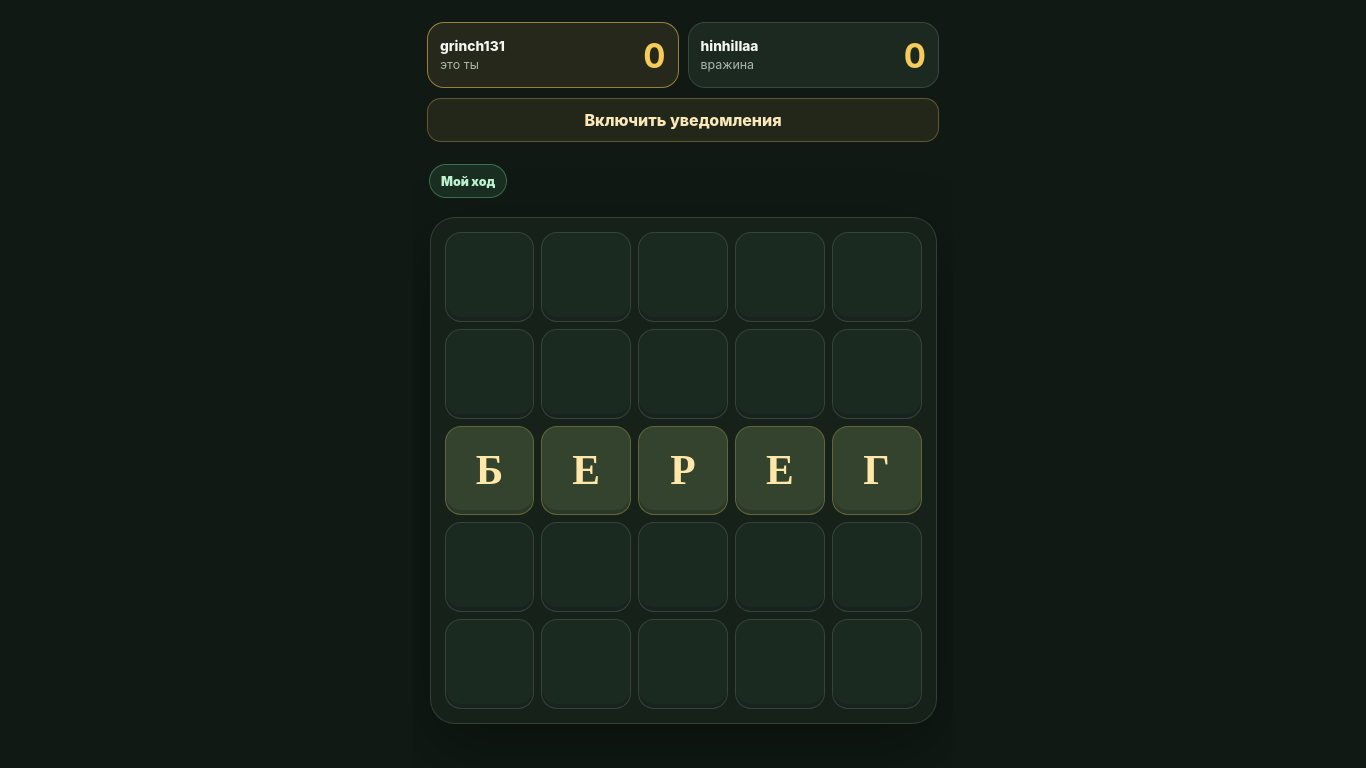
it: App states and orchestration › leaves no draft after letter selection is closed without a choice
Click the cell named "Пустая клетка 1, 0" at coordinates (489, 374), box [444,329,534,419]
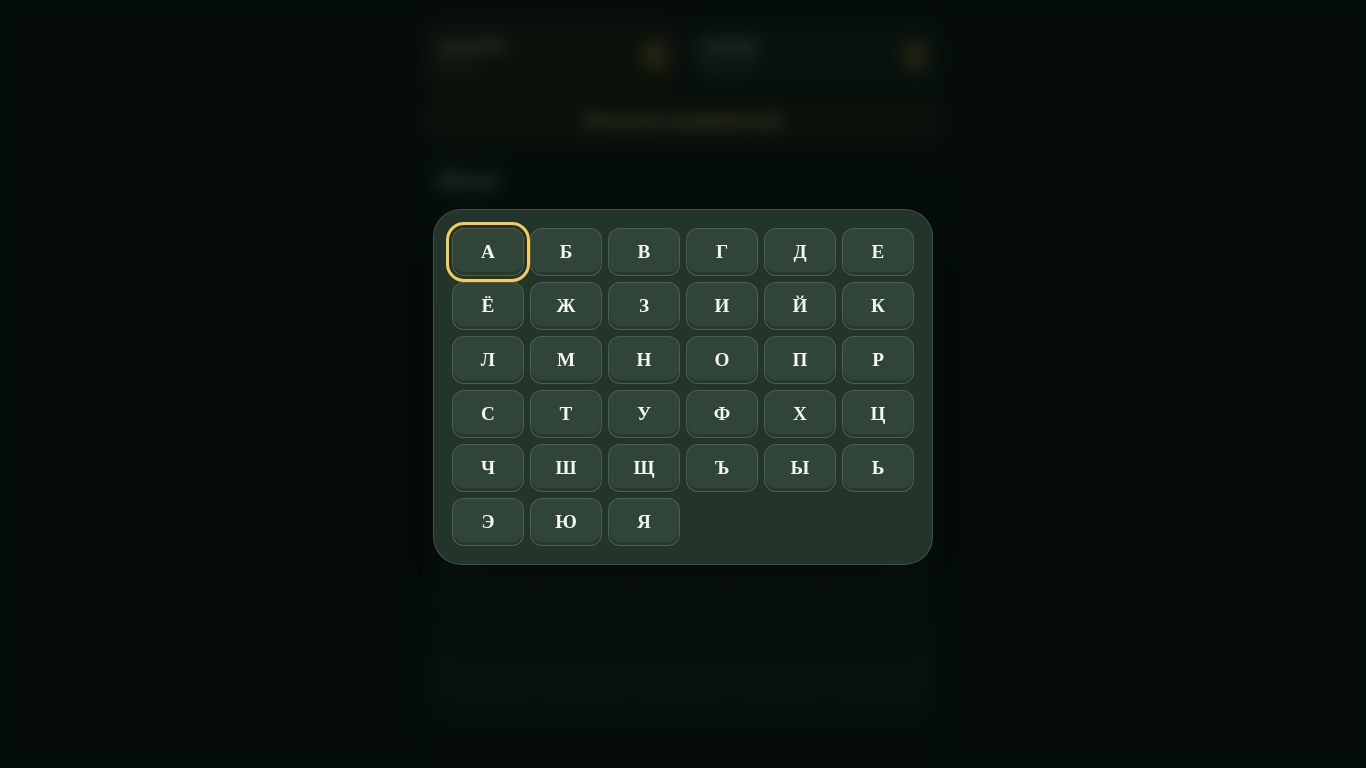
Expected: the element with class "keyboard-backdrop" is shown
Press the mouse on the element with class "keyboard-backdrop" at coordinates (683, 384), box [0,0,1365,767]
Expected: the dialog named "Выбор буквы" is shown, [433,209,933,565]
Click the element with class "keyboard-backdrop" at coordinates (82, 384), box [0,0,1365,767]
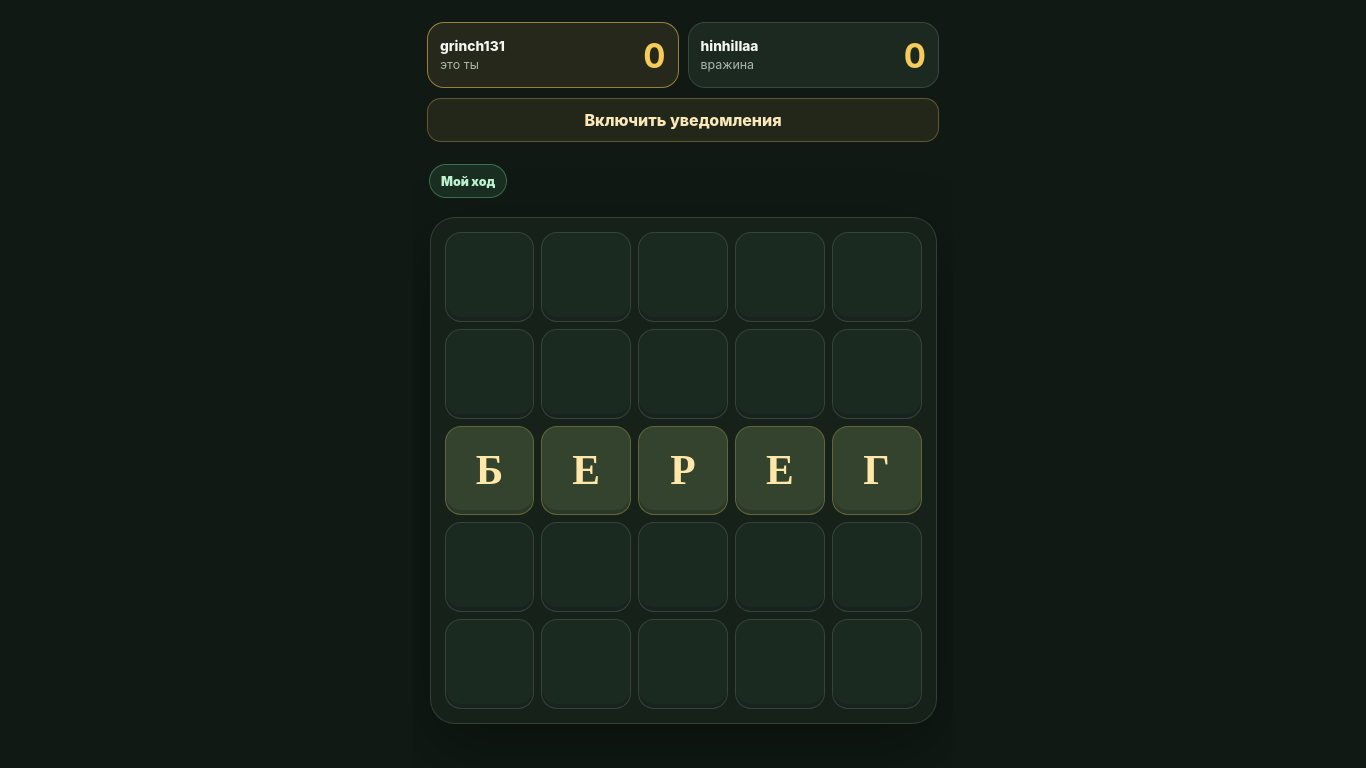
Expected: the cell named "Пустая клетка 1, 0" is shown, [444,329,534,419]
Click the cell named "Пустая клетка 1, 1" at coordinates (586, 374), box [541,329,631,419]
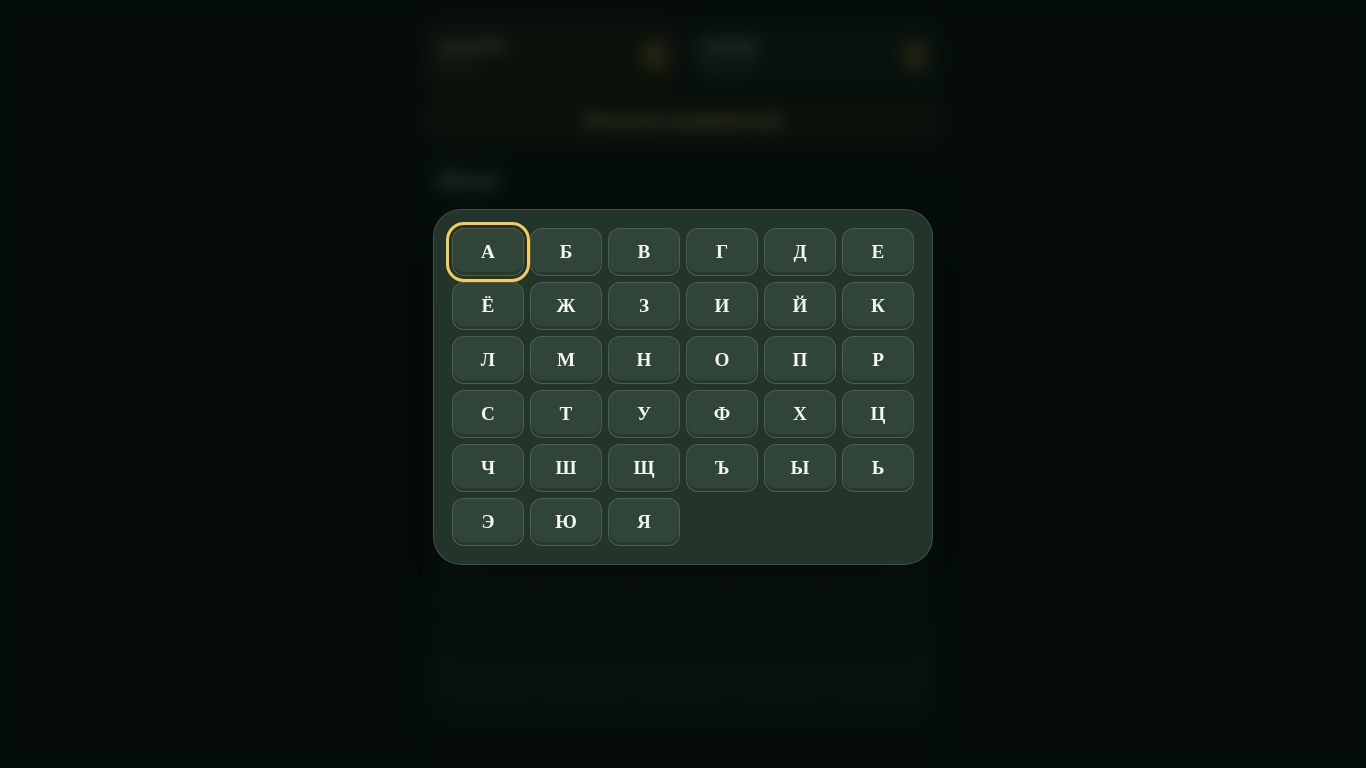
Expected: the dialog named "Выбор буквы" is shown, [433,209,933,565]
